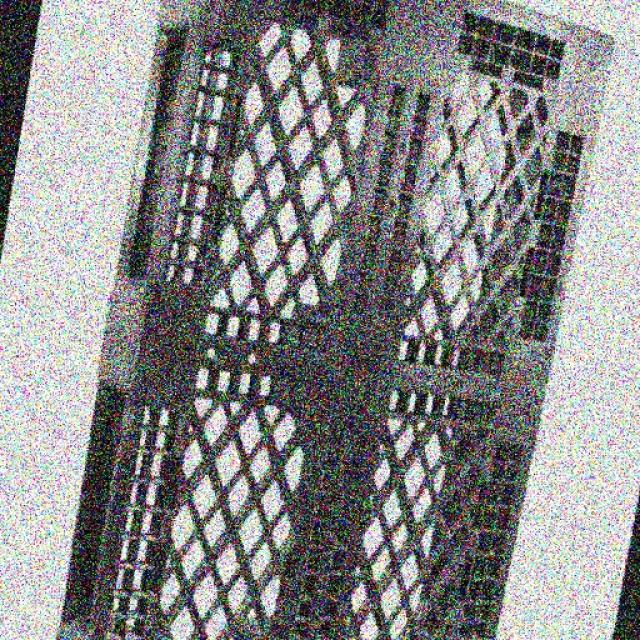non-igps: (49, 0, 621, 640)
